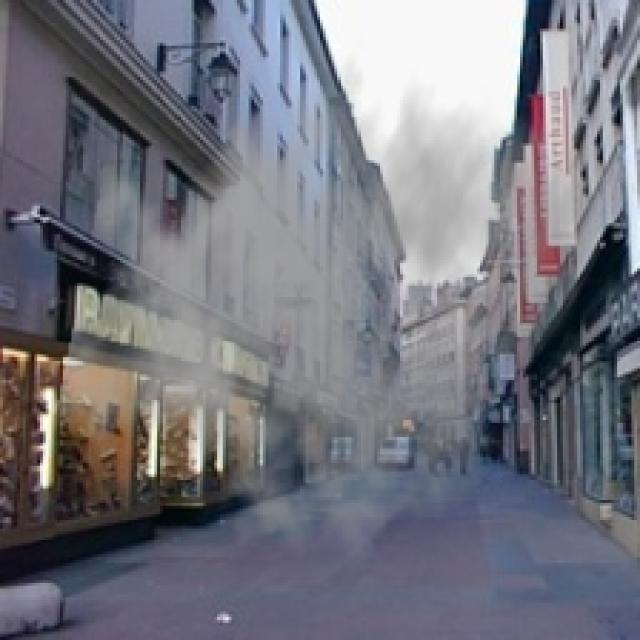smoke: (51, 32, 588, 574)
